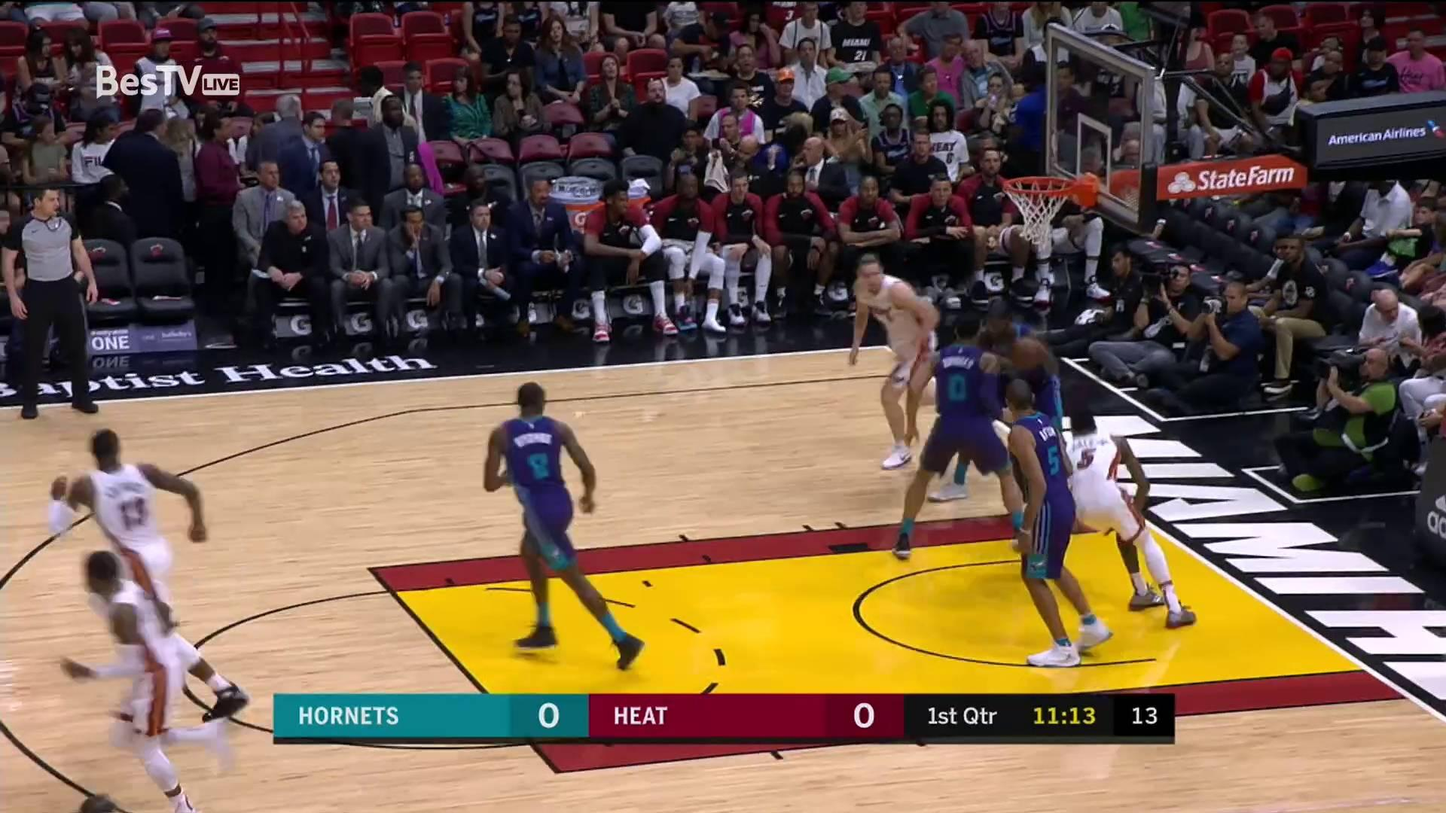basketball: (1018, 339, 1048, 372)
